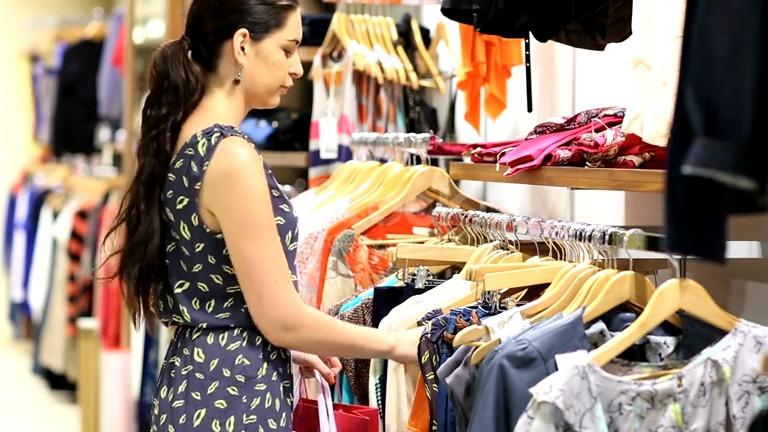Non shoplifting: (98, 0, 446, 432)
